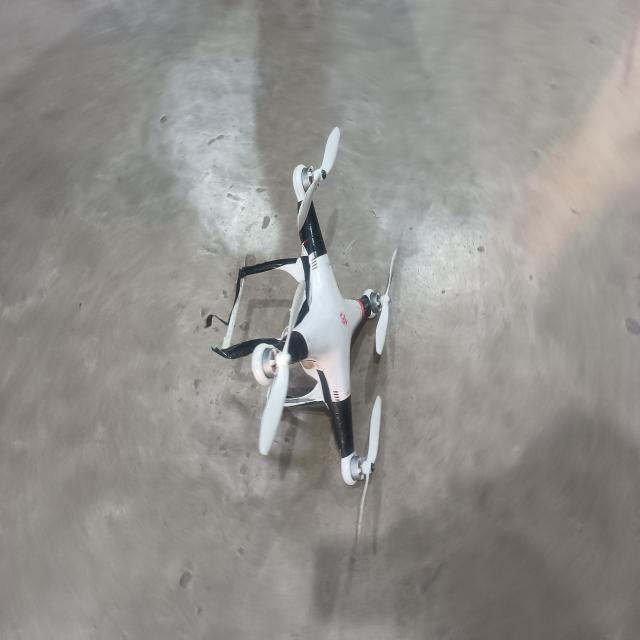drone: (195, 119, 426, 495)
